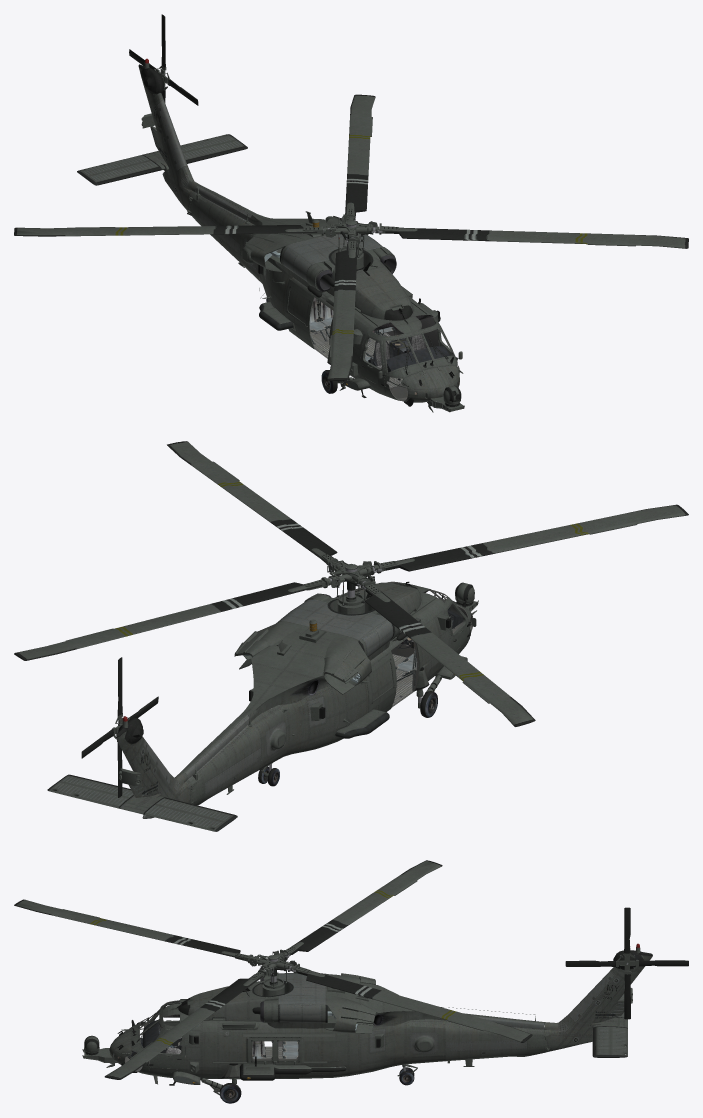
Rendered from sh-60b_seahawk_helicopter-maximum-compressed.glb.
3 views of the same model, one above another, from view 1: azimuth 30°, elevation 25°; view 2: azimuth 150°, elevation 25°; view 3: azimuth 270°, elevation 25° (orthographic). The views are drawn at different scales.
Parts seen in each view (by area): view 1: Object_20, Object_9, Object_21, Object_12, Object_13, Object_16, Object_18, Object_22, Object_17, Object_19, Object_2, Object_5 (+4 smaller); view 2: Object_20, Object_9, Object_12, Object_16, Object_22, Object_21, Object_13, Object_18, Object_17, Object_8, Object_2, Object_11 (+3 smaller); view 3: Object_9, Object_21, Object_19, Object_20, Object_13, Object_16, Object_18, Object_22, Object_12, Object_10, Object_17, Object_5 (+6 smaller).
Boxes of the visible parts, x1,y1,x2,y2 form: Object_20: (188, 192, 687, 388); Object_9: (187, 185, 459, 391); Object_21: (285, 221, 688, 386); Object_12: (77, 69, 463, 412); Object_13: (138, 62, 459, 404); Object_16: (334, 94, 385, 387); Object_18: (129, 49, 463, 406); Object_22: (14, 225, 356, 247); Object_17: (155, 14, 462, 386); Object_19: (187, 195, 459, 403); Object_2: (309, 297, 459, 400); Object_5: (311, 301, 449, 372); Object_20: (167, 441, 688, 805); Object_9: (180, 581, 470, 803); Object_12: (47, 589, 477, 831); Object_16: (14, 561, 469, 660); Object_22: (356, 561, 535, 726); Object_21: (167, 441, 410, 760); Object_13: (116, 592, 468, 818); Object_18: (81, 584, 472, 771); Object_17: (113, 577, 476, 797); Object_8: (184, 582, 469, 803); Object_2: (327, 581, 472, 706); Object_11: (119, 578, 478, 794); Object_9: (127, 973, 547, 1084); Object_21: (104, 942, 445, 1079); Object_19: (109, 1008, 547, 1084); Object_20: (14, 899, 548, 1079); Object_13: (85, 947, 652, 1095); Object_16: (149, 954, 532, 1064); Object_18: (110, 938, 688, 1073); Object_22: (237, 860, 442, 965); Object_12: (82, 951, 649, 1084); Object_10: (109, 972, 547, 1080); Object_17: (147, 907, 637, 1069); Object_5: (126, 1020, 298, 1066).
Size of the model in its own units: 1689 by 647 by 2196.
Materials: 3 (3 with a texture image).
